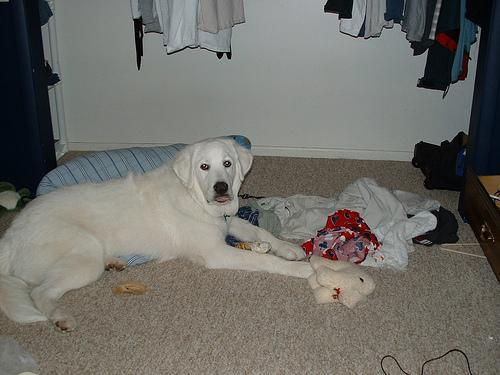Great_Pyrenees: (0, 136, 314, 333)
